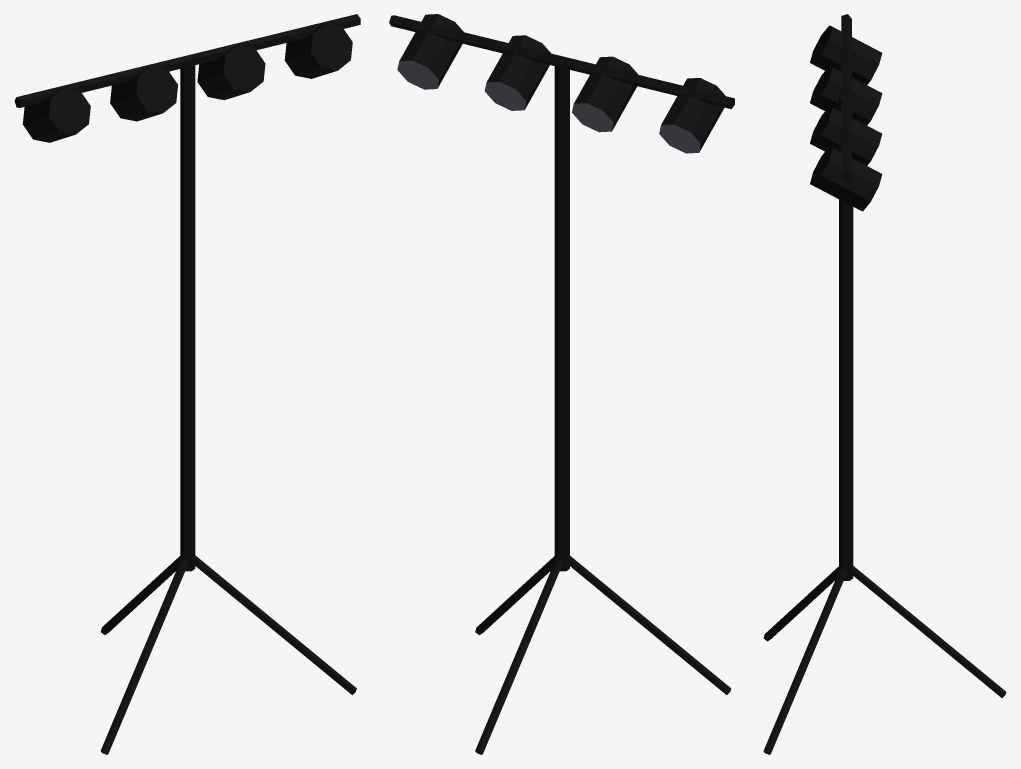
Rendered from TBarStand.obj.
3 renders of one model, left to right at view 1: azimuth 30°, elevation 25°; view 2: azimuth 150°, elevation 25°; view 3: azimuth 270°, elevation 25°, orthographic. The views are drawn at different scales.
Parts seen in each view (by area): view 1: TBarStand; view 2: TBarStand; view 3: TBarStand.
Boxes of the visible parts, left/top/right/bottom form: TBarStand: left=14, top=14, right=360, bottom=754; TBarStand: left=389, top=14, right=734, bottom=754; TBarStand: left=763, top=14, right=1006, bottom=754.
Size of the model in its own units: 1.3 by 2.35 by 0.8481.
Materials: 1 (1 with a texture image).
